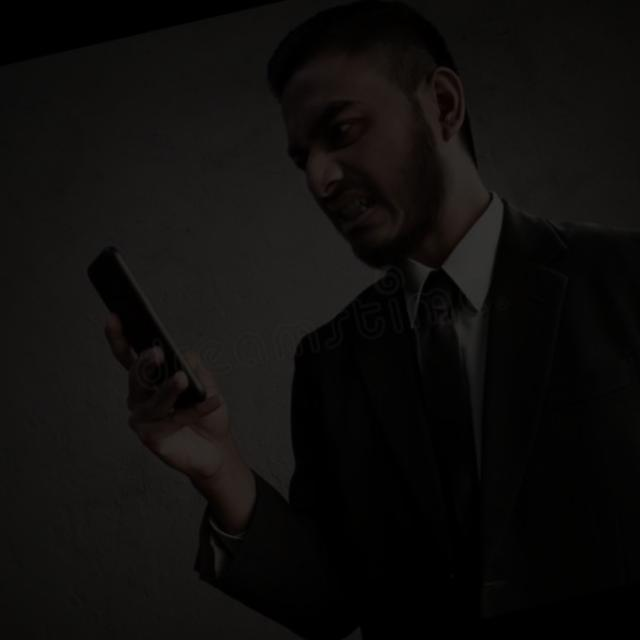Angry: (193, 49, 517, 273)
